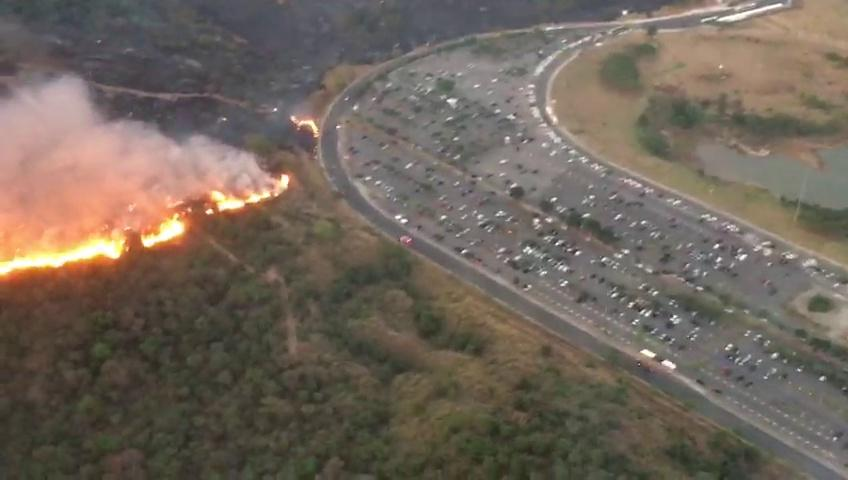fire: (144, 215, 190, 245), (44, 240, 114, 257), (5, 258, 34, 272), (215, 200, 250, 210)
smoke: (8, 136, 116, 193)
